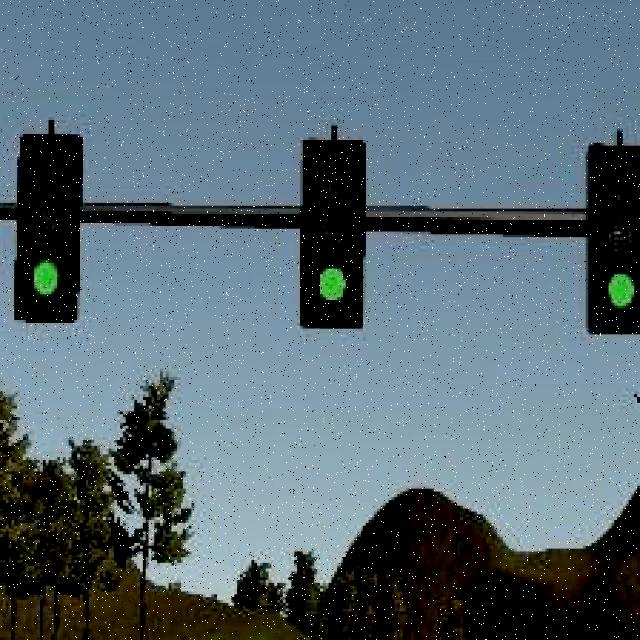Zielone swiatlo: (20, 130, 80, 320), (306, 137, 363, 332), (591, 143, 640, 332)
